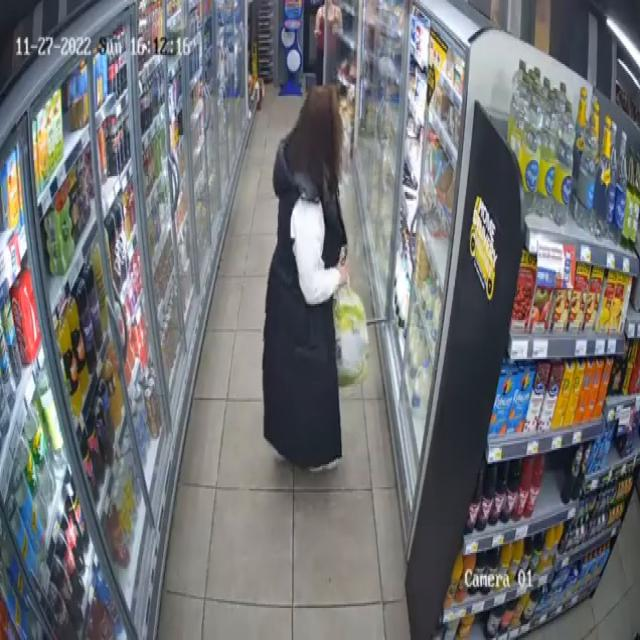bags: (334, 284, 368, 384)
person: (263, 87, 348, 468)
